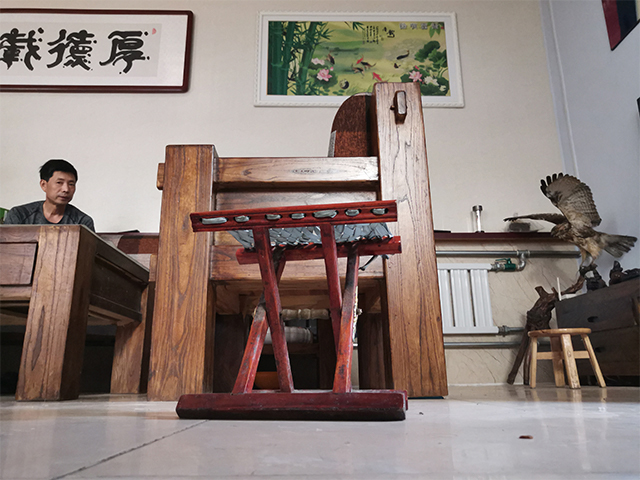cabinet: (553, 272, 640, 387)
sofa: (95, 79, 449, 405)
stool: (174, 198, 410, 423), (524, 324, 608, 390)
table: (1, 221, 154, 405)
